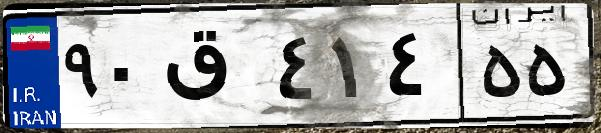0: (110, 28, 158, 98)
1: (330, 28, 385, 110)
4: (270, 28, 330, 110), (385, 28, 445, 110)
5: (475, 38, 525, 113), (525, 38, 570, 115)
9: (57, 26, 110, 100)
ق: (158, 20, 270, 120)
